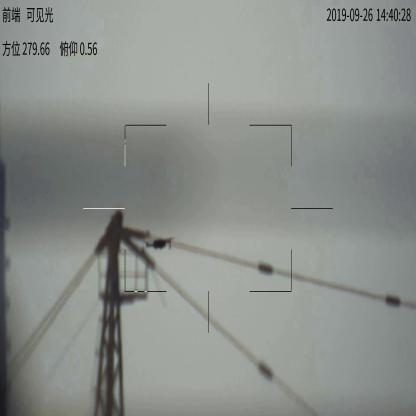uav: (145, 235, 178, 253)
